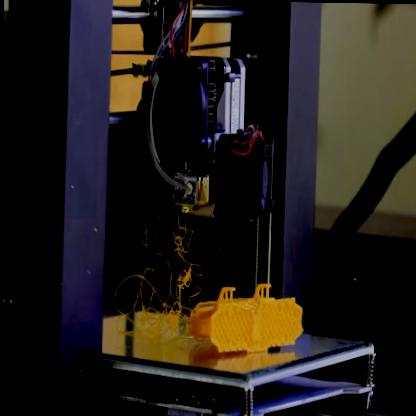fail: (115, 217, 203, 343)
